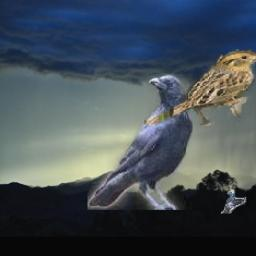Crow: (88, 75, 193, 211), (222, 189, 247, 213)
Sparrow: (146, 50, 256, 127)
